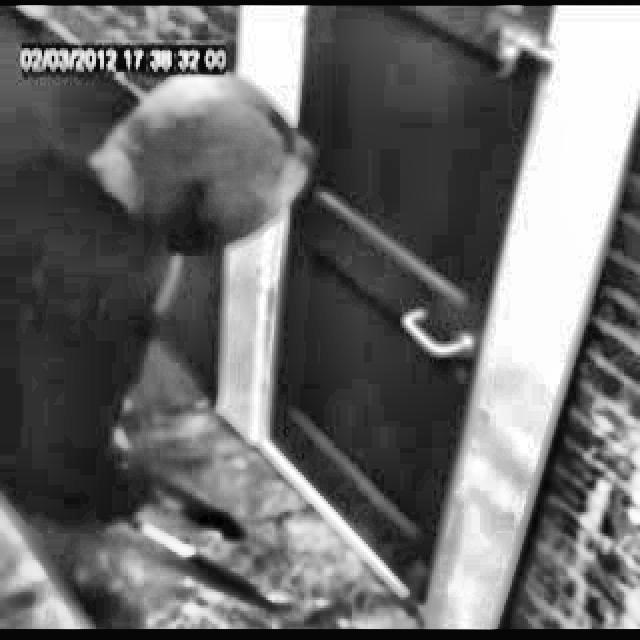burglary: (54, 74, 488, 628)
